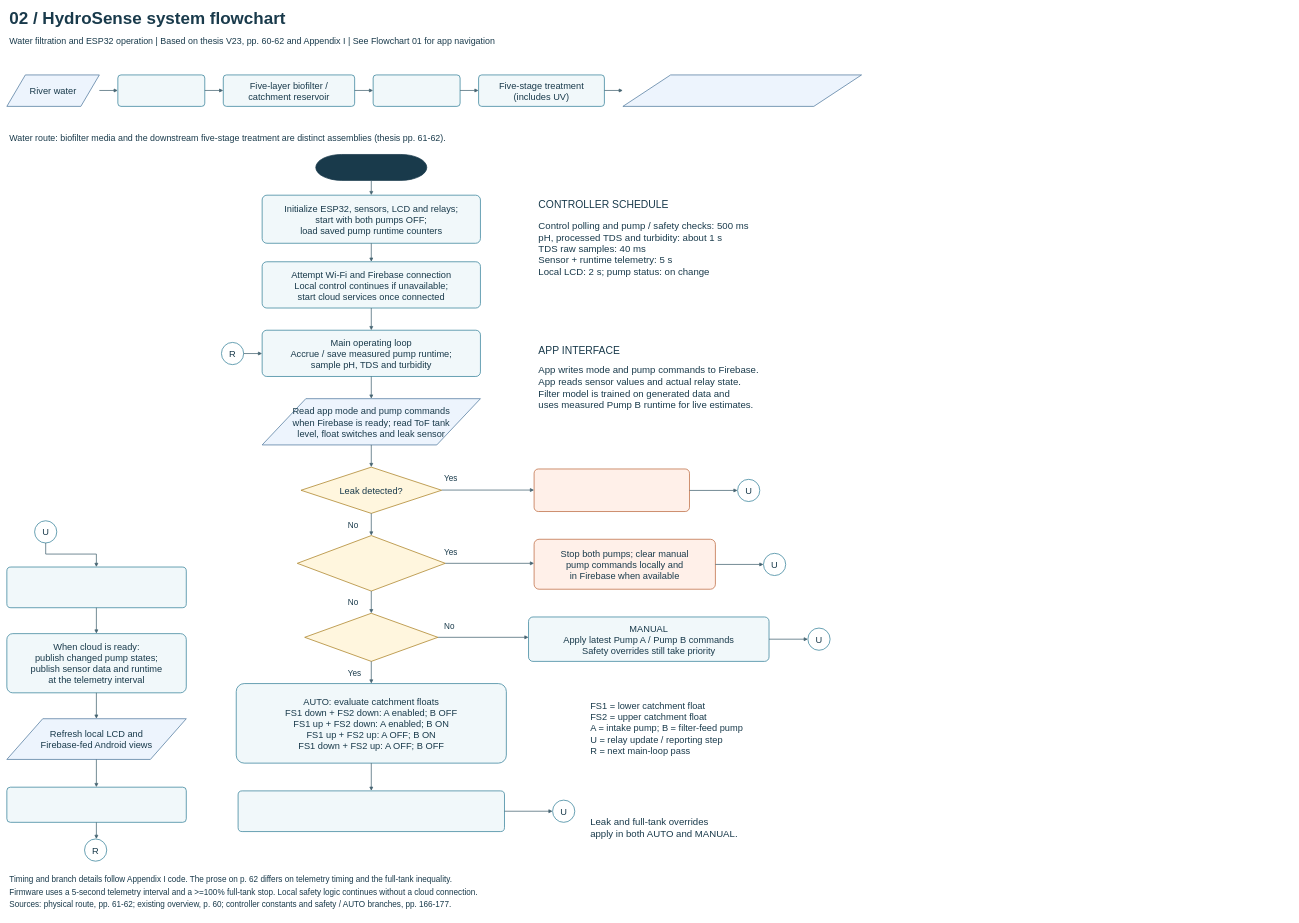
The diagram is 1299 pixels wide and 923 high, and some of its shapes have lost their labels. The centre of each missing label's shape, as x and y in pixels:
1,000 L output tank Non-potable domestic use: point (742, 90)
Apply / retain relay outputs; update actual pump state: point (96, 587)
AUTO mode?: point (371, 637)
Continue while powered: point (96, 805)
Filter-feed Pump B: point (416, 90)
If A enabled: cycle 30 s ON / 60 s OFF Otherwise keep A OFF; apply B state: point (371, 811)
Intake Pump A: point (161, 90)
Output tank full (100%)?: point (371, 563)
Power on: point (371, 167)
Stop both pumps; reset Pump A cycle timer: point (612, 490)
